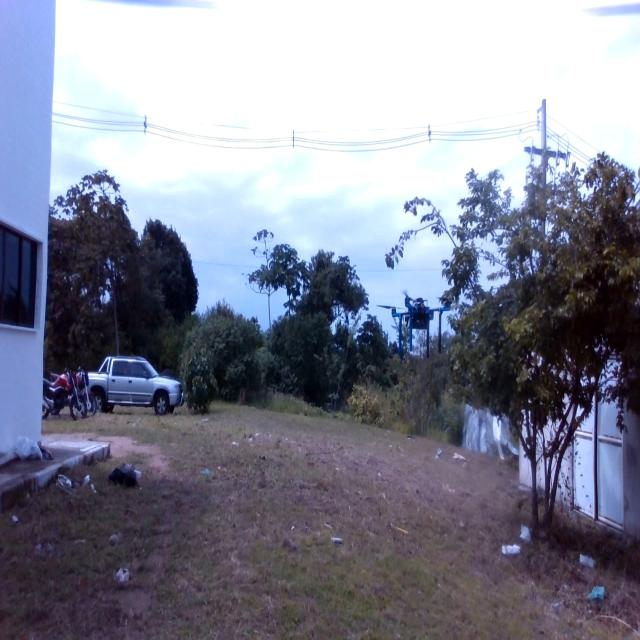-uav-: (379, 278, 456, 375)
